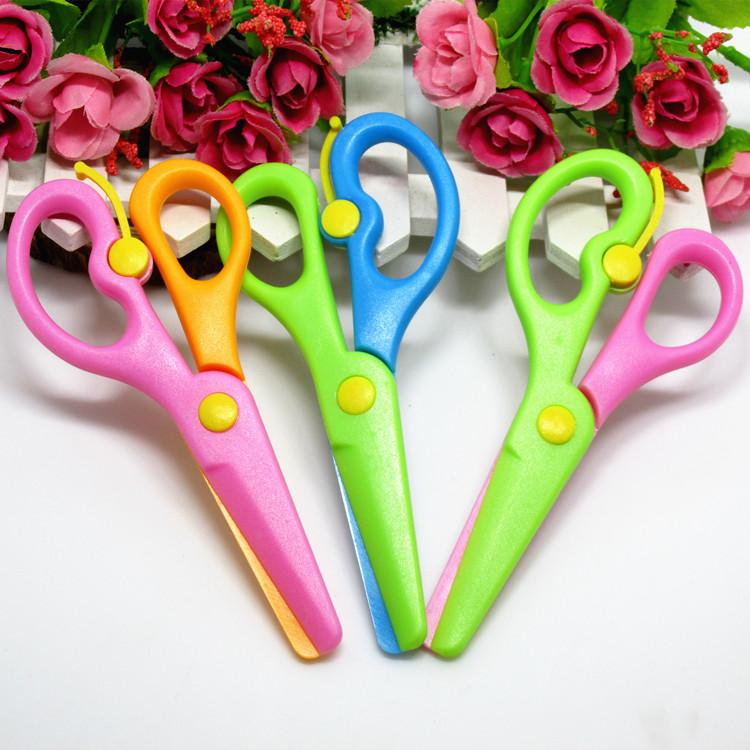scissor: (30, 143, 750, 669)
